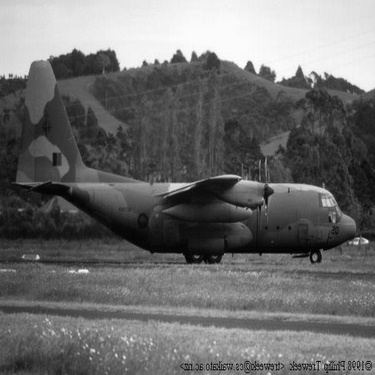airplane: (14, 53, 362, 269)
car: (340, 225, 371, 250)
